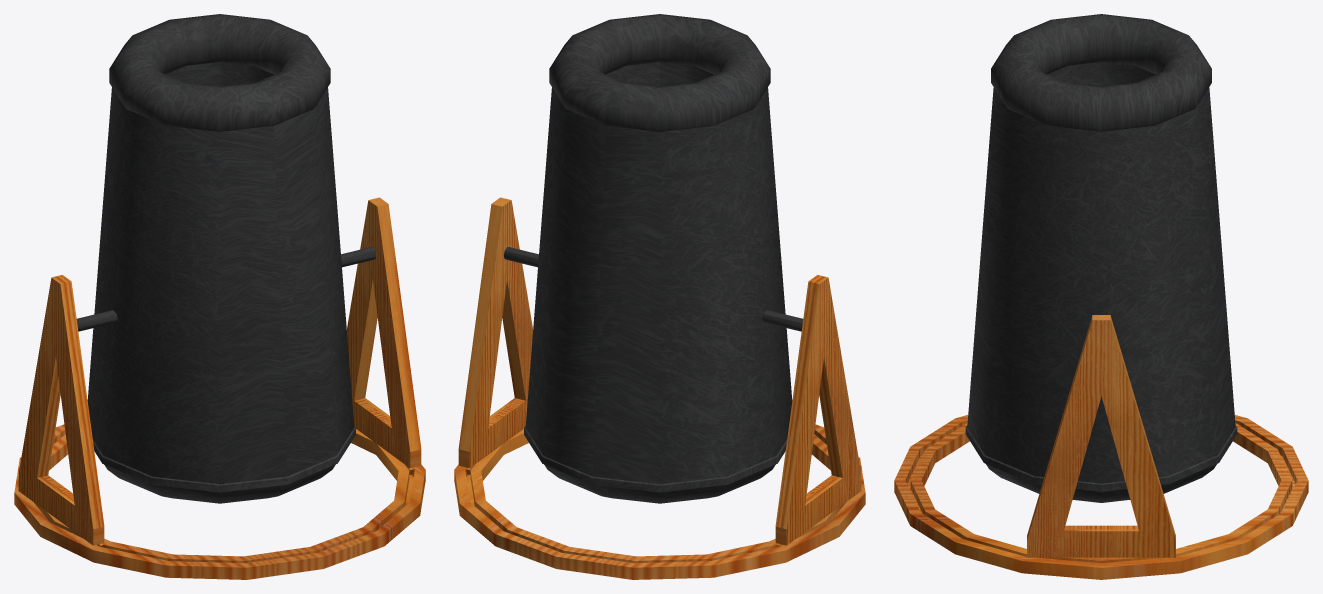
The model's file is armata_wgore.obj.
3 views of the same model, side by side, from view 1: azimuth 30°, elevation 25°; view 2: azimuth 150°, elevation 25°; view 3: azimuth 270°, elevation 25° (orthographic).
Visible parts, largest first — view 1: g1_group, g2_group, g0; view 2: g1_group, g2_group, g0; view 3: g1_group, g2_group, g0.
Boxes of the visible parts, <box> form: g1_group: <box>76,14,376,503</box>; g2_group: <box>18,197,421,546</box>; g0: <box>14,424,425,579</box>; g1_group: <box>503,14,803,503</box>; g2_group: <box>458,197,861,546</box>; g0: <box>454,424,865,579</box>; g1_group: <box>965,14,1237,502</box>; g2_group: <box>1027,315,1175,557</box>; g0: <box>894,415,1308,579</box>.
Size of the model in its own units: 4.6 by 5.4 by 4.6.
